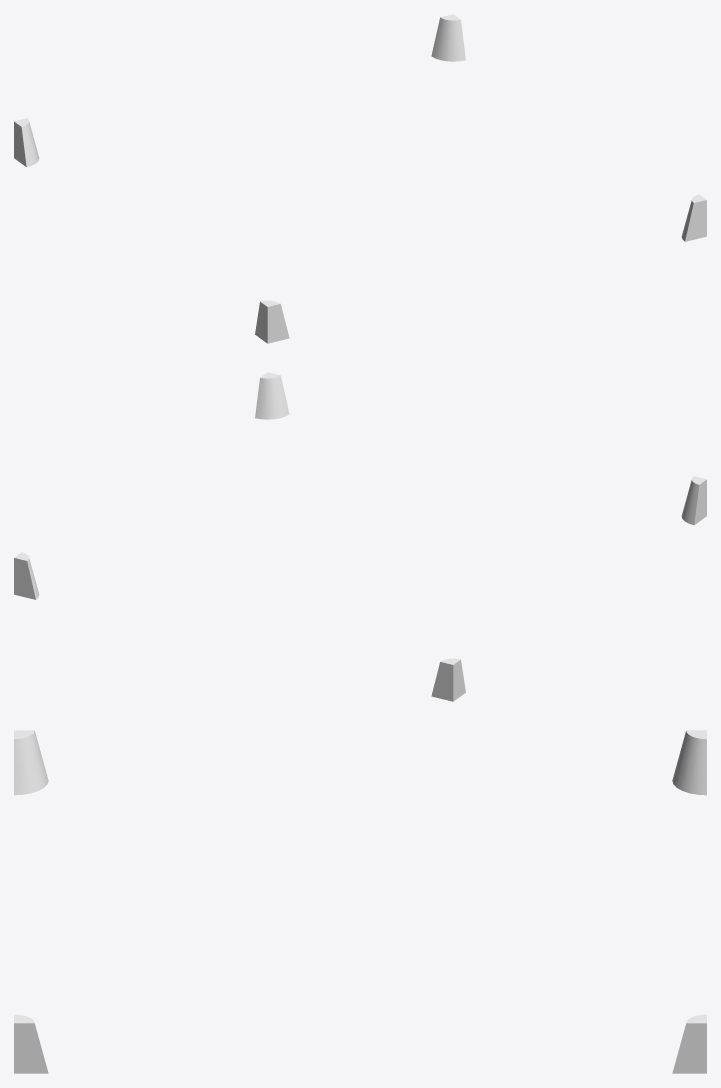
File: road_crossroad_barrier.glb
The picture shows the model from 3 angles, top to bottom: view 1: azimuth 30°, elevation 25°; view 2: azimuth 150°, elevation 25°; view 3: azimuth 270°, elevation 25°; orthographic projection. The views are drawn at different scales.
Visible parts, largest first — view 1: road-crossroad-barrier; view 2: road-crossroad-barrier; view 3: road-crossroad-barrier.
Boxes of the visible parts, x1,y1,x2,y2 form: road-crossroad-barrier: (14, 14, 706, 343); road-crossroad-barrier: (14, 372, 706, 701); road-crossroad-barrier: (14, 730, 706, 1073).
Bounding box in the file's own units: 1 × 0.08 × 1.
Materials: 1 (1 with a texture image).
